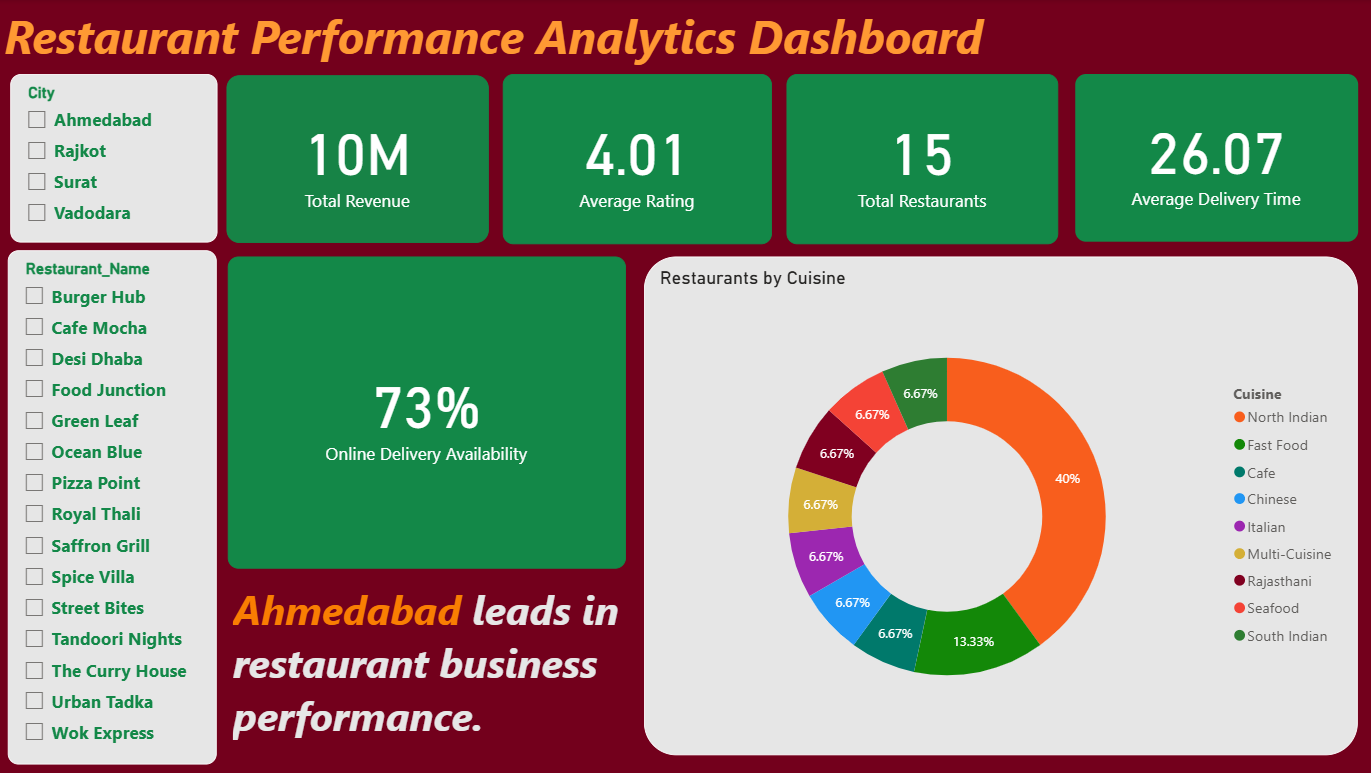

The page's visual inventory and layout, read from the dashboard file:
{"tool":"powerbi","page":{"name":"Page 1","canvas":[1280,720],"ordinal":0},"visuals":[{"type":"slicer","fields":{"Values":["Restaurant data.City"]},"box":[10,70,192.9,157.1],"z":0},{"type":"slicer","fields":{"Values":["Restaurant data.Restaurant_Name"]},"box":[8.6,234.3,194.3,478.6],"z":1000},{"type":"textbox","box":[0,0,1005.7,82.9],"z":2000},{"type":"card","fields":{"Values":["Restaurant data.Total Revenue"]},"box":[211.4,71.4,244.3,155.7],"z":3000},{"type":"card","fields":{"Values":["Restaurant data.Average Rating"]},"box":[468.6,70,250,158.6],"z":4000},{"type":"card","fields":{"Values":["Restaurant data.Total_restaurant"]},"box":[732.9,70,252.9,158.6],"z":5000},{"type":"card","fields":{"Values":["Restaurant data.Online Delivery Status"]},"box":[212.9,240,370,290],"z":6000},{"type":"card","fields":{"Values":["Restaurant data.Average delivery time"]},"box":[1001.4,70,262.9,155.7],"z":7000},{"type":"donutChart","fields":{"Category":["Restaurant data.Cuisine"],"Y":["CountNonNull(Restaurant data.Restaurant_ID)"]},"box":[600,240,664.3,464.3],"z":8000},{"type":"textbox","box":[212.9,537.1,390,182.9],"z":9000}]}

Visuals, with their boxes in screenshot pixels (x1, y1, x2, y2), scaled from the page's 1280x720 canvas onto the 1371x773 screenshot:
slicer - Restaurant data.City: <box>11,75,217,244</box>
slicer - Restaurant data.Restaurant_Name: <box>9,252,217,765</box>
textbox: <box>0,0,1077,89</box>
card - Restaurant data.Total Revenue: <box>226,77,488,244</box>
card - Restaurant data.Average Rating: <box>502,75,770,245</box>
card - Restaurant data.Total_restaurant: <box>785,75,1056,245</box>
card - Restaurant data.Online Delivery Status: <box>228,258,624,569</box>
card - Restaurant data.Average delivery time: <box>1073,75,1354,242</box>
donutChart - Restaurant data.Cuisine x CountNonNull(Restaurant data.Restaurant_ID): <box>643,258,1354,756</box>
textbox: <box>228,577,646,772</box>
